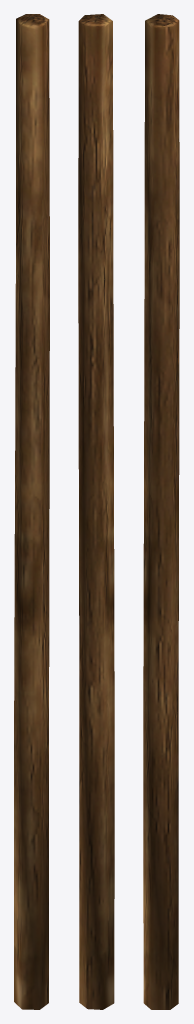
Rendered from log_2.FBX.
3 views of the same model, side by side, from view 1: azimuth 30°, elevation 25°; view 2: azimuth 150°, elevation 25°; view 3: azimuth 330°, elevation 25° (orthographic).
Parts seen in each view (by area): view 1: log_2; view 2: log_2; view 3: log_2.
Boxes of the visible parts, x1,y1,x2,y2 form: log_2: [14, 14, 49, 1009]; log_2: [78, 14, 114, 1009]; log_2: [143, 14, 179, 1009].
Bounding box in the file's own units: 2.04 × 67.25 × 2.18.
